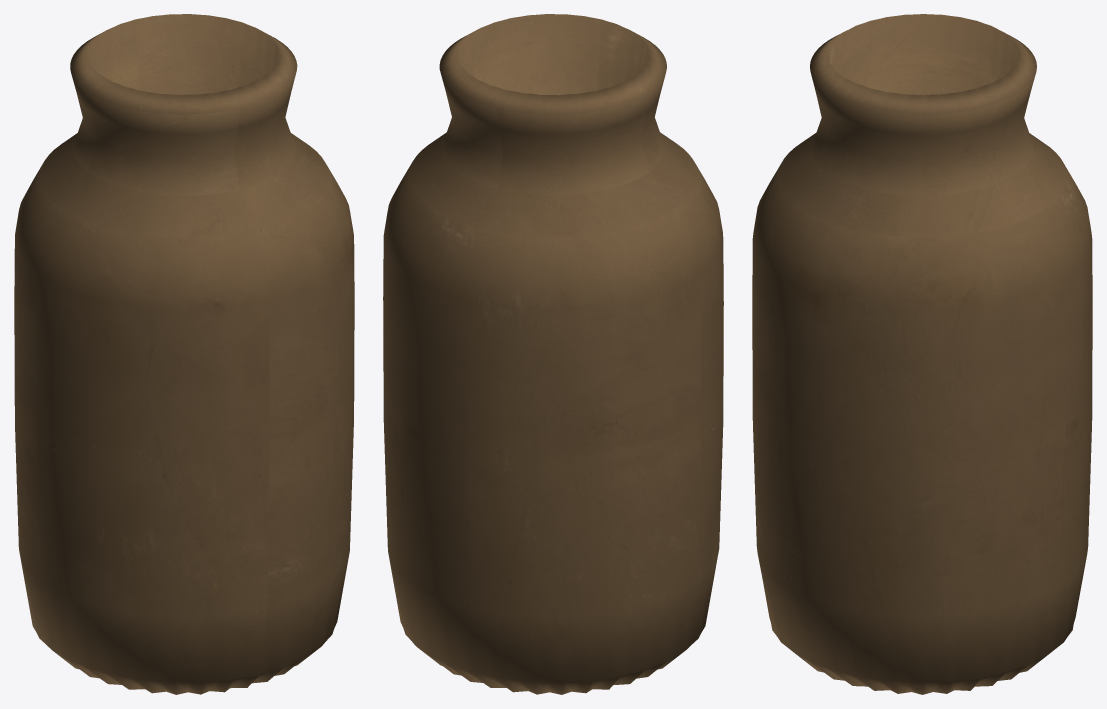
File: lab1.glb
The picture shows the model from 3 angles, left to right: view 1: azimuth 30°, elevation 25°; view 2: azimuth 150°, elevation 25°; view 3: azimuth 270°, elevation 25°; orthographic projection.
Parts seen in each view (by area): view 1: Cylinder; view 2: Cylinder; view 3: Cylinder.
Part boxes in pixels (<box>): Cylinder: <box>14,14,354,694</box>; Cylinder: <box>383,14,723,694</box>; Cylinder: <box>752,14,1092,694</box>.
Size of the model in its own units: 1.99 by 3.88 by 1.99.
Materials: 1 (1 with a texture image).
